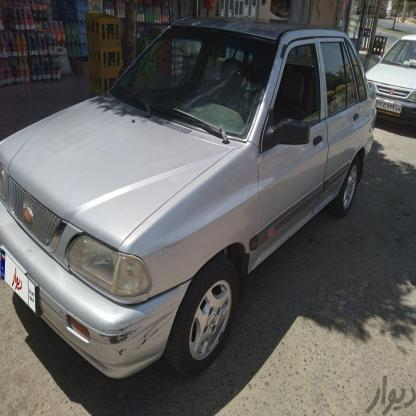Car: (0, 25, 373, 387), (361, 33, 416, 135)
